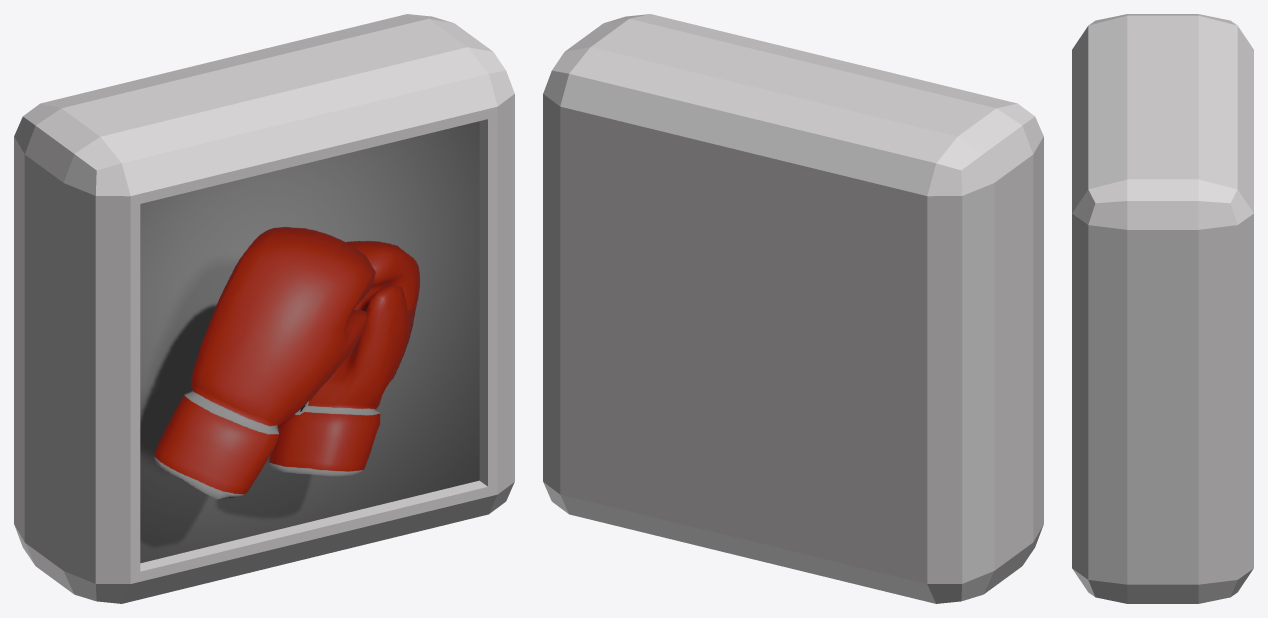
Rendered from MarcoGuanteRojo.fbx.
3 renders of one model, left to right at view 1: azimuth 30°, elevation 25°; view 2: azimuth 150°, elevation 25°; view 3: azimuth 270°, elevation 25°, orthographic. The views are drawn at different scales.
Parts seen in each view (by area): view 1: Cube.001, guanterojo; view 2: Cube.001; view 3: Cube.001.
Boxes of the visible parts, x1,y1,x2,y2 form: Cube.001: (14, 14, 514, 603); guanterojo: (140, 121, 479, 563); Cube.001: (543, 14, 1043, 603); Cube.001: (1072, 14, 1253, 603).
Size of the model in its own units: 106 by 107 by 41.51.
